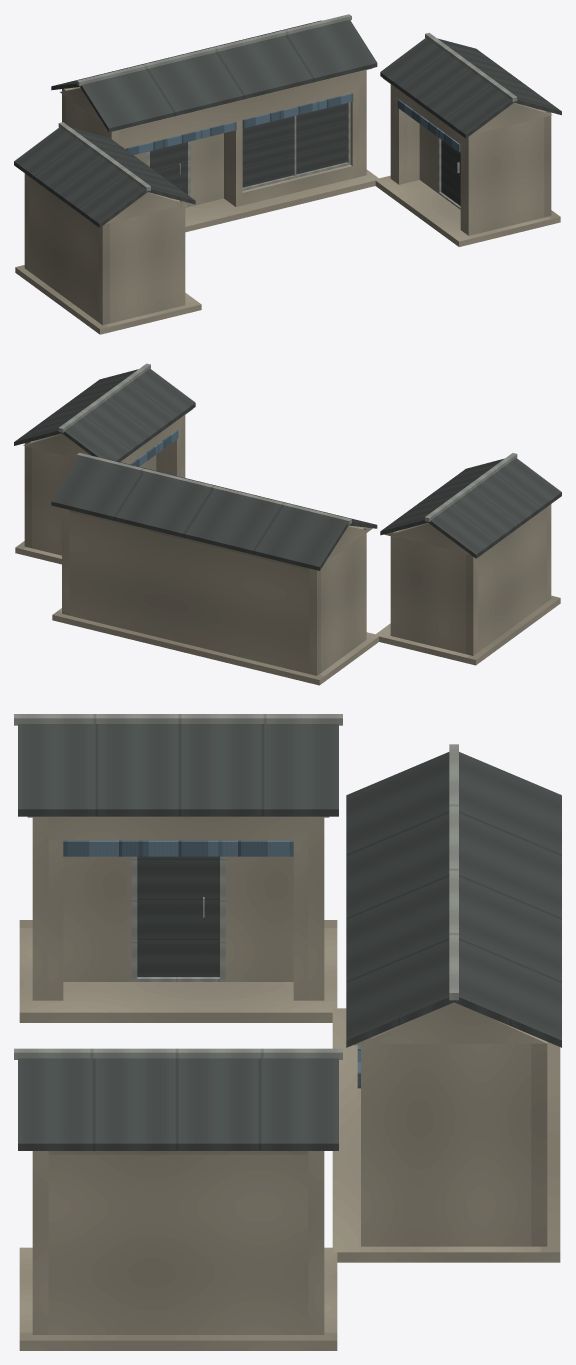
Rendered from oslo.glb.
3 views of the same model, one above another, from view 1: azimuth 30°, elevation 25°; view 2: azimuth 150°, elevation 25°; view 3: azimuth 270°, elevation 25° (orthographic). The views are drawn at different scales.
Visible parts, largest first — view 1: oslo; view 2: oslo; view 3: oslo.
Part boxes in pixels (<box>): oslo: <box>14,14,561,334</box>; oslo: <box>14,363,561,685</box>; oslo: <box>14,714,561,1350</box>.
Size of the model in its own units: 8.6 by 2.58 by 4.72.
Materials: 1 (1 with a texture image).
